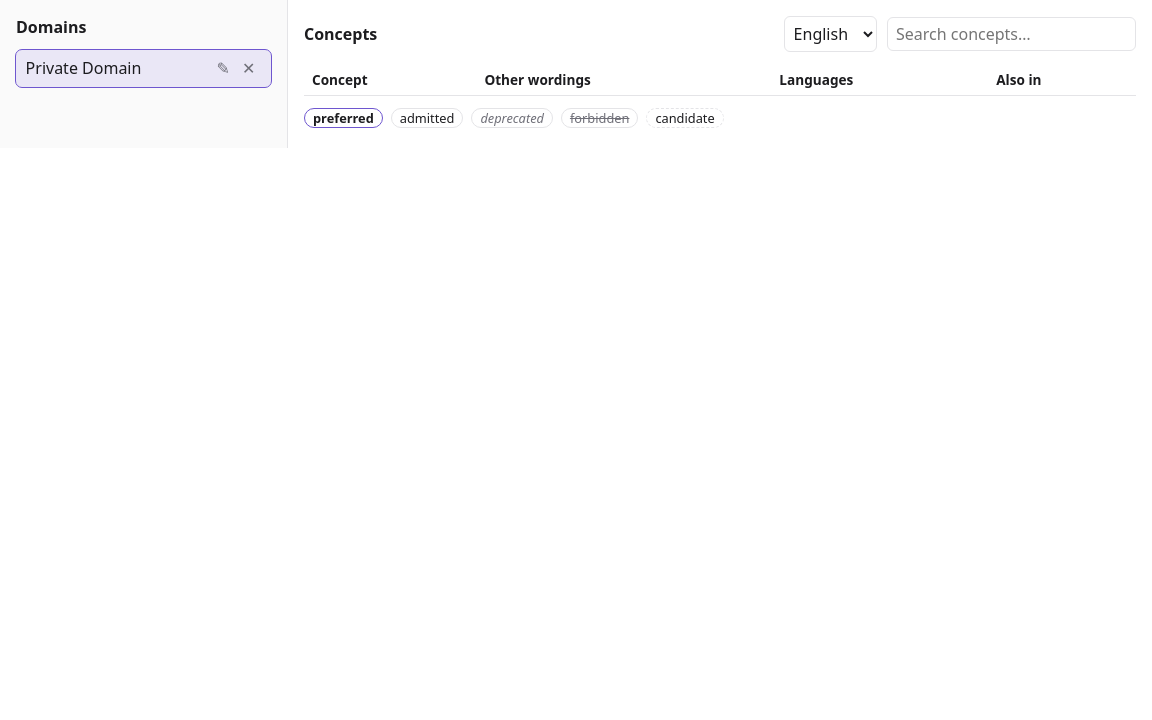
Test: TerminologyView deleting a domain asks first › does not delete when the question is cancelled
Click the button titled "Delete domain".
click(249, 68)  # box [236, 56, 261, 80]
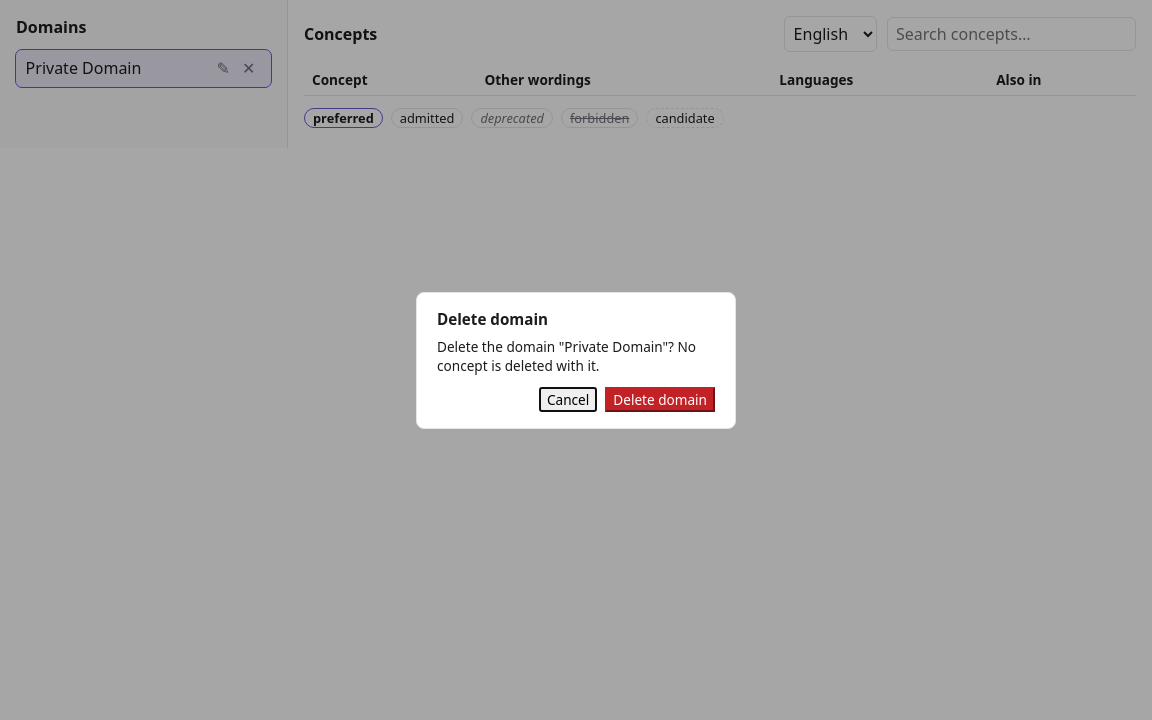
Click the button "Cancel".
click(568, 399)  # box [539, 386, 597, 412]
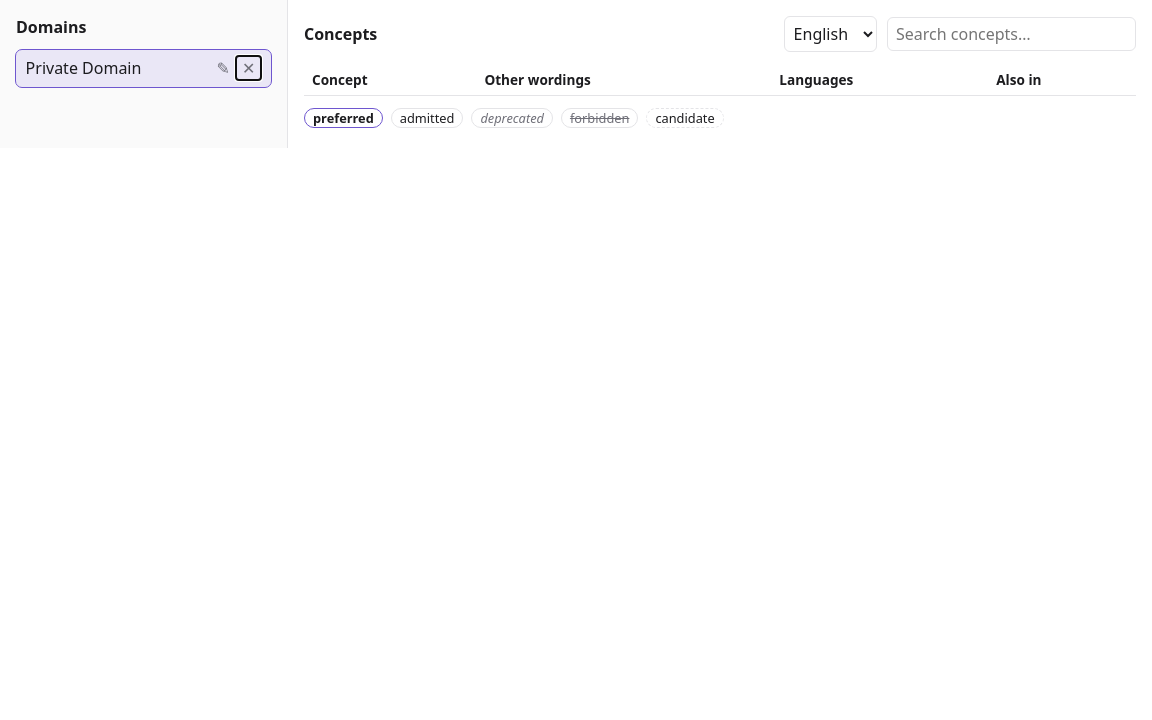
Check: the dialog is gone
